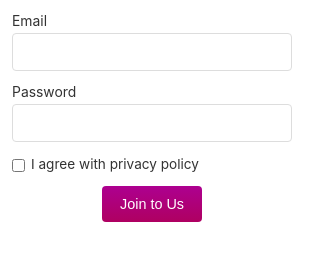
Test case: shows validation errors
In the field labelled "Email": (152, 52) x1=12 y1=33 x2=292 y2=71, type "incorrect@app.test"
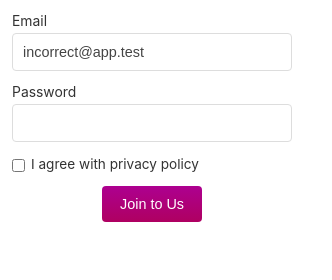
In the password field labelled "Password": (152, 123) x1=12 y1=104 x2=292 y2=142, type "password"
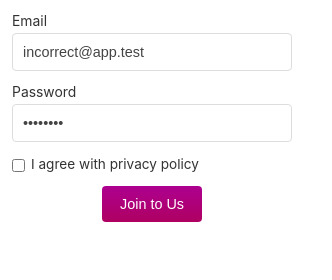
Click the checkbox labelled "I agree with privacy policy": (18, 165) x1=12 y1=159 x2=25 y2=172
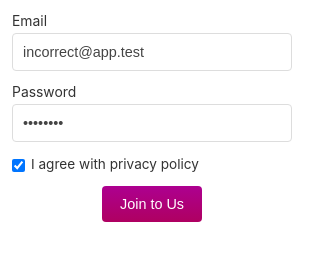
Click the button with test id "join-button": (152, 204) x1=102 y1=186 x2=202 y2=222
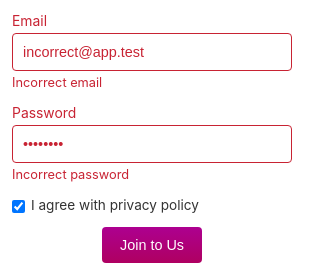
Expected: the text "Incorrect email" is shown, x1=12 y1=75 x2=102 y2=90
Expected: the text "Incorrect password" is shown, x1=12 y1=167 x2=129 y2=182
